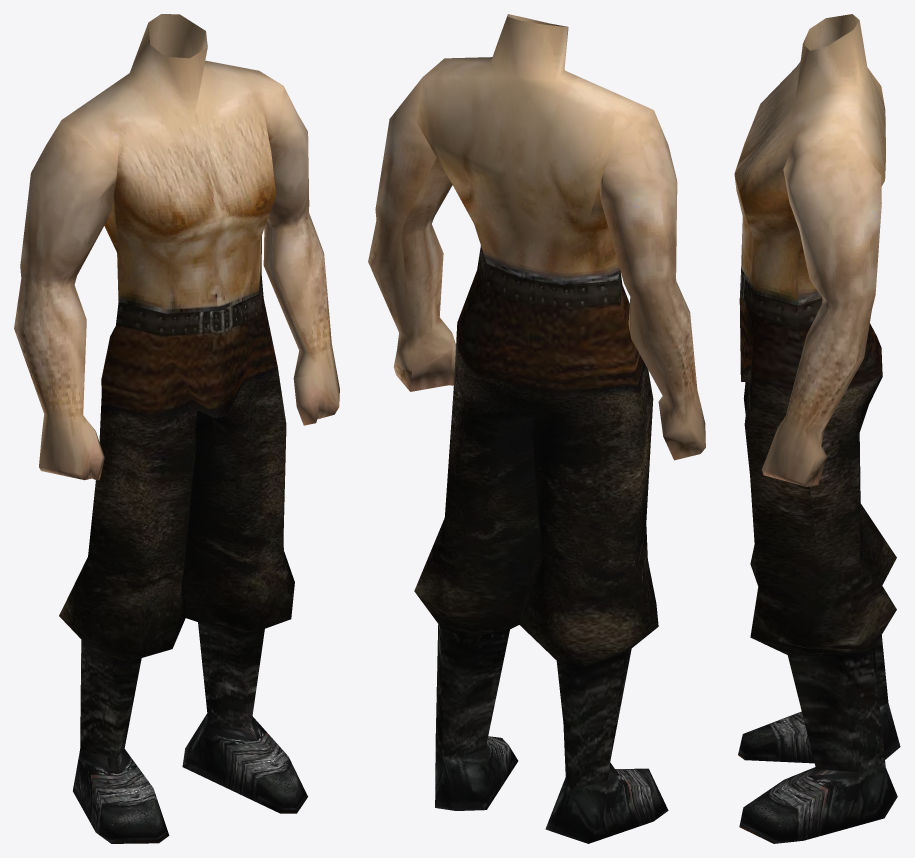
Rendered from KM_PANTS_06.glb.
3 views of the same model, side by side, from view 1: azimuth 30°, elevation 25°; view 2: azimuth 150°, elevation 25°; view 3: azimuth 270°, elevation 25° (orthographic). The views are drawn at different scales.
Parts seen in each view (by area): view 1: KM_PANTS_06; view 2: KM_PANTS_06; view 3: KM_PANTS_06.
Boxes of the visible parts, x1,y1,x2,y2 form: KM_PANTS_06: (14,14,339,843); KM_PANTS_06: (368,14,705,843); KM_PANTS_06: (734,14,900,843).
Bounding box in the file's own units: 0.6879 × 1.69 × 0.3299.
2 materials, 2 textured.
